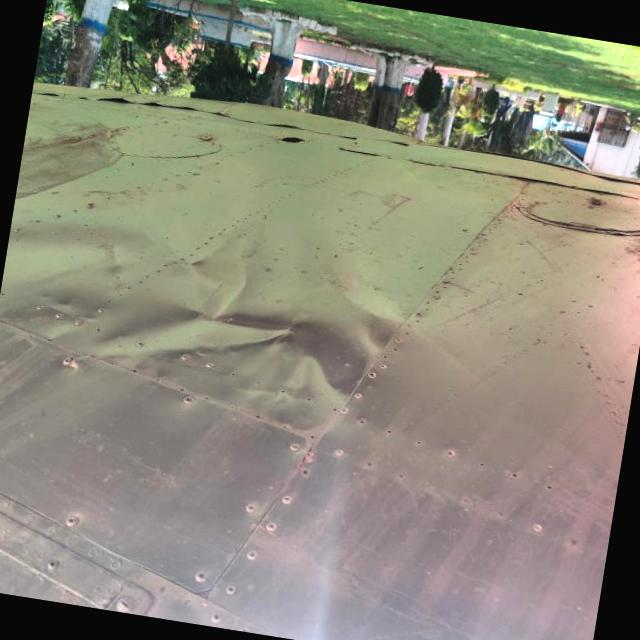dent: (74, 228, 422, 454)
